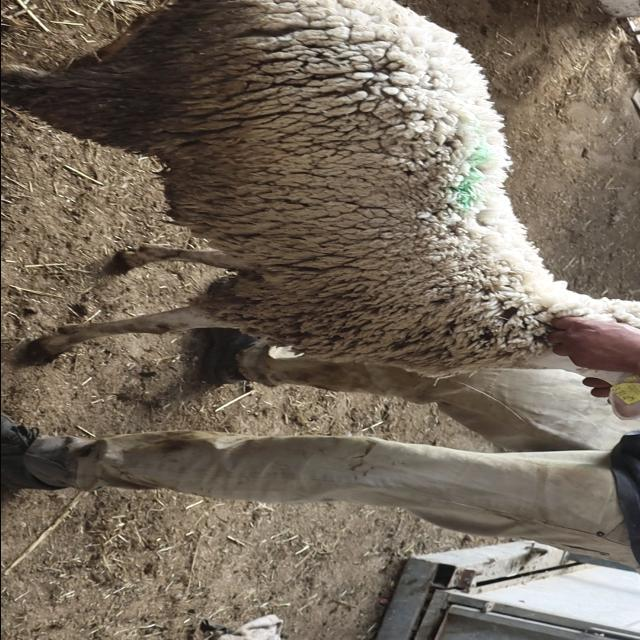Score_3: (1, 0, 640, 384)
